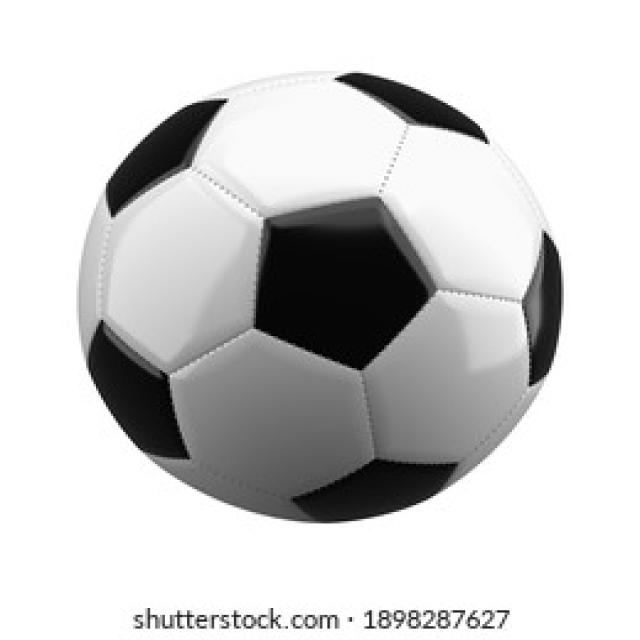soccer ball: (81, 71, 564, 519)
